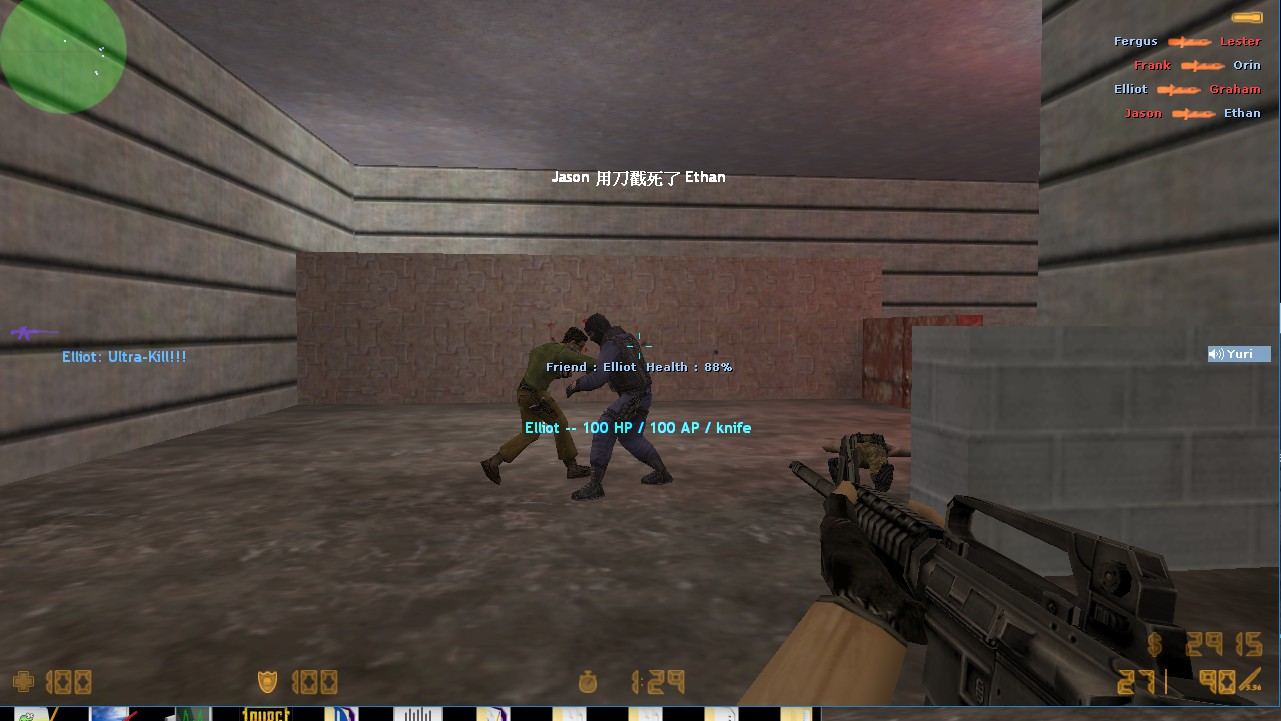person: (580, 298, 677, 500), (506, 318, 582, 483)
